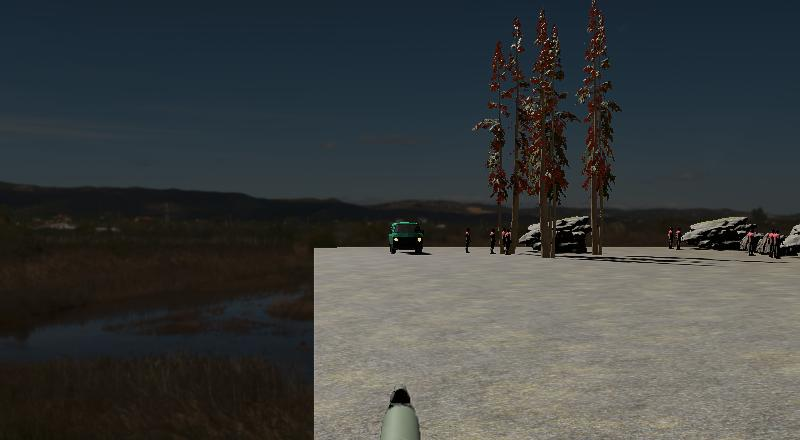Human: (769, 227, 782, 260), (744, 226, 756, 257), (744, 226, 755, 258)
car: (389, 220, 424, 255)
